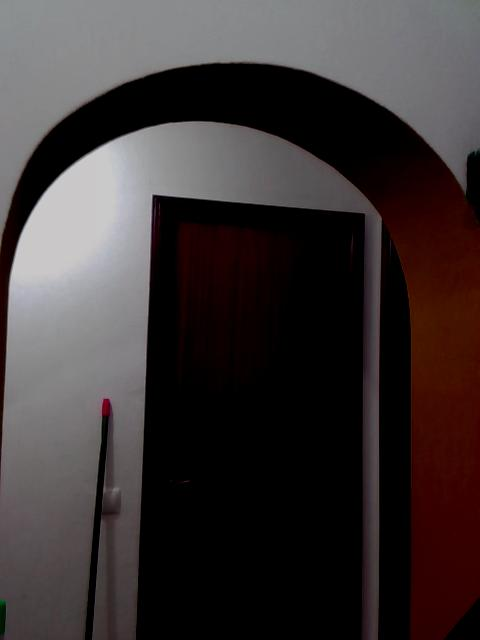closed_door: (133, 192, 368, 639)
